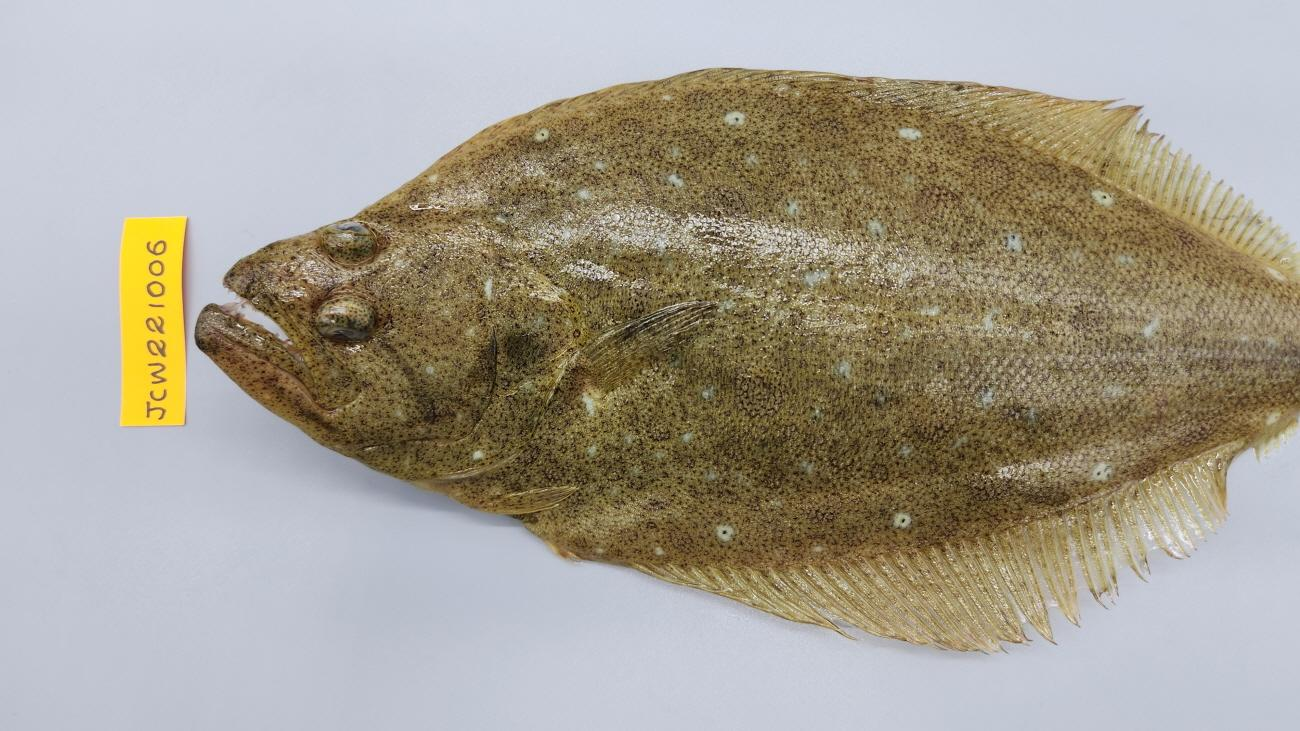POOUN: (195, 67, 1300, 653)
